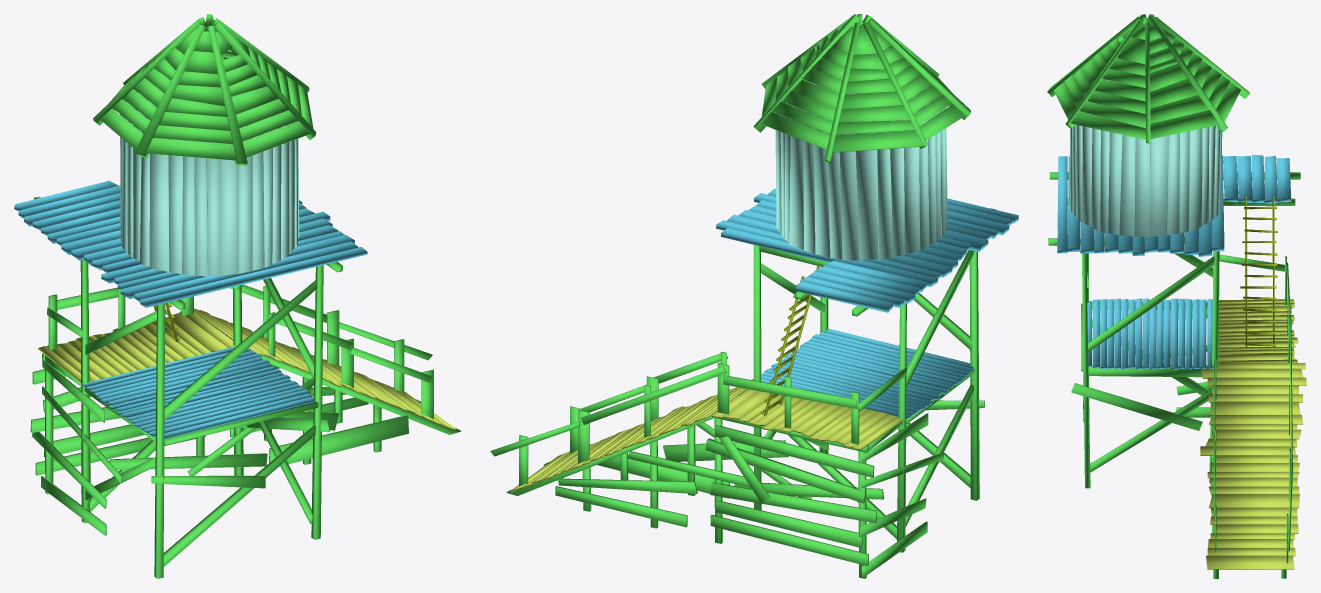
File: water_tower.obj
3 renders of one model, left to right at view 1: azimuth 30°, elevation 25°; view 2: azimuth 150°, elevation 25°; view 3: azimuth 270°, elevation 25°, orthographic. The views are drawn at different scales.
Parts seen in each view (by area): view 1: wall_2, floor, wall, roof, floor_2; view 2: wall_2, floor, roof, wall, floor_2, stairs; view 3: floor_2, floor, roof, wall, wall_2, stairs.
Boxes of the visible parts, x1,y1,x2,y2 form: wall_2: (30,196,461,578); floor: (14,180,367,438); wall: (120,70,299,276); roof: (93,14,316,166); floor_2: (38,308,455,430); wall_2: (490,208,995,578); floor: (716,188,1018,419); roof: (753,14,970,162); wall: (775,63,947,260); floor_2: (510,379,903,492); stairs: (761,265,819,415); floor_2: (1200,299,1306,569); floor: (1057,154,1291,369); roof: (1047,14,1249,143); wall: (1069,59,1222,236); wall_2: (1048,172,1300,578); stairs: (1240,196,1277,347).
Bounding box in the file's own units: 932 × 1080 × 574.
